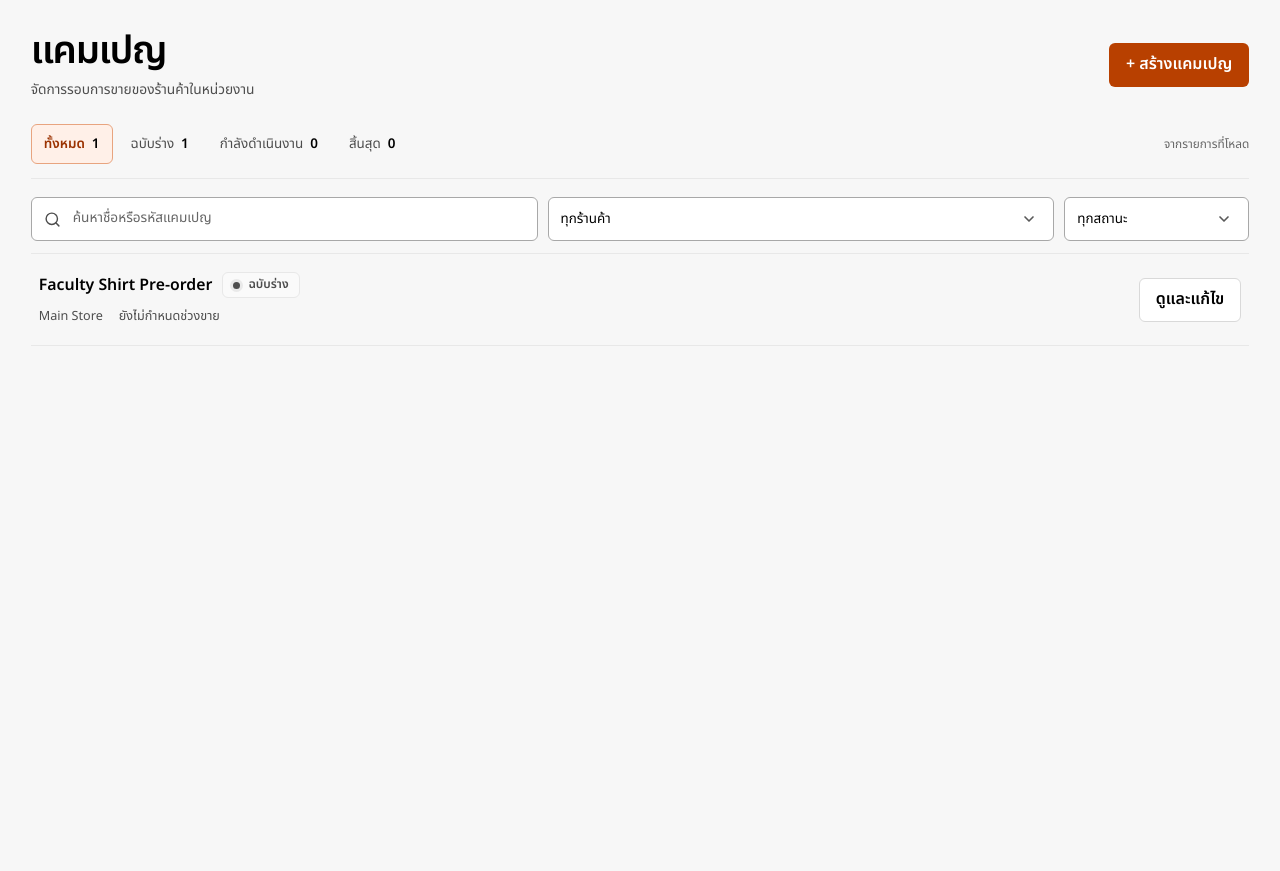
Test: CampaignManagementView › loads fresh DRAFT detail before editing and serializes planning fields through the helper
Expected: the heading "Faculty Shirt Pre-order" is shown, [39, 272, 212, 298]
Click the button "ดูและแก้ไข": {"x": 1190, "y": 300} [1139, 278, 1241, 322]
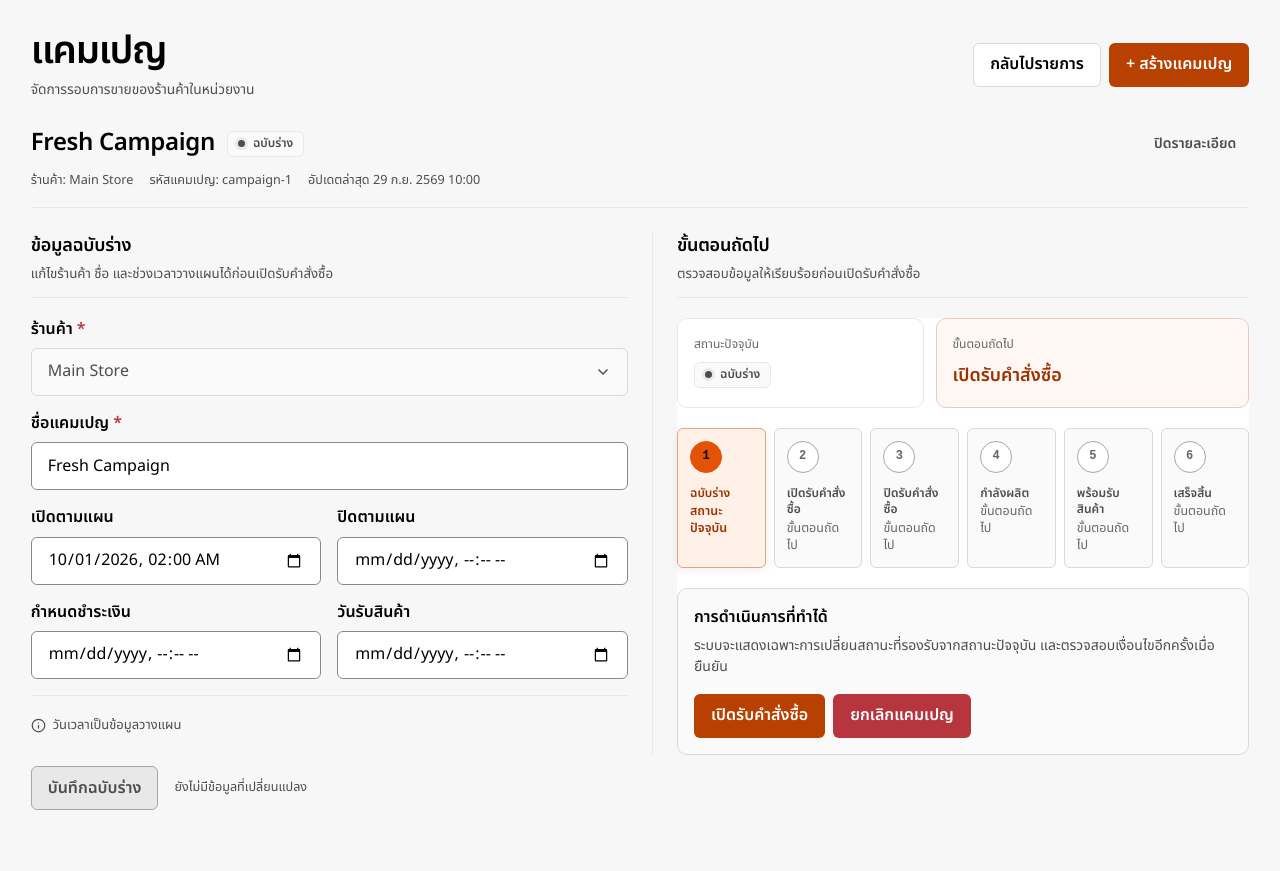
Replace the text in the field showing "Fresh Campaign" with "Updated Campaign": {"x": 329, "y": 466} [31, 442, 628, 490]
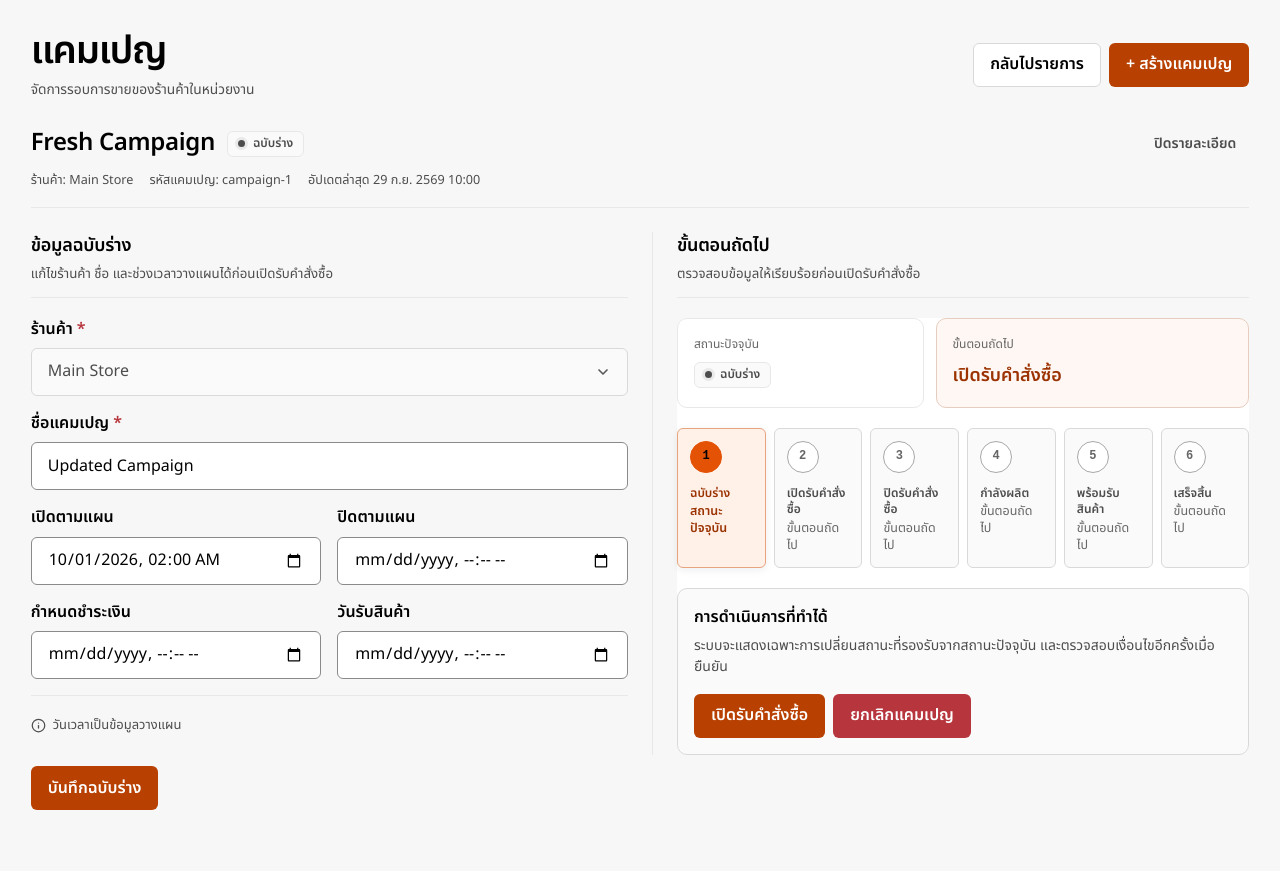
Click the button "บันทึกฉบับร่าง": {"x": 95, "y": 788} [31, 766, 158, 810]
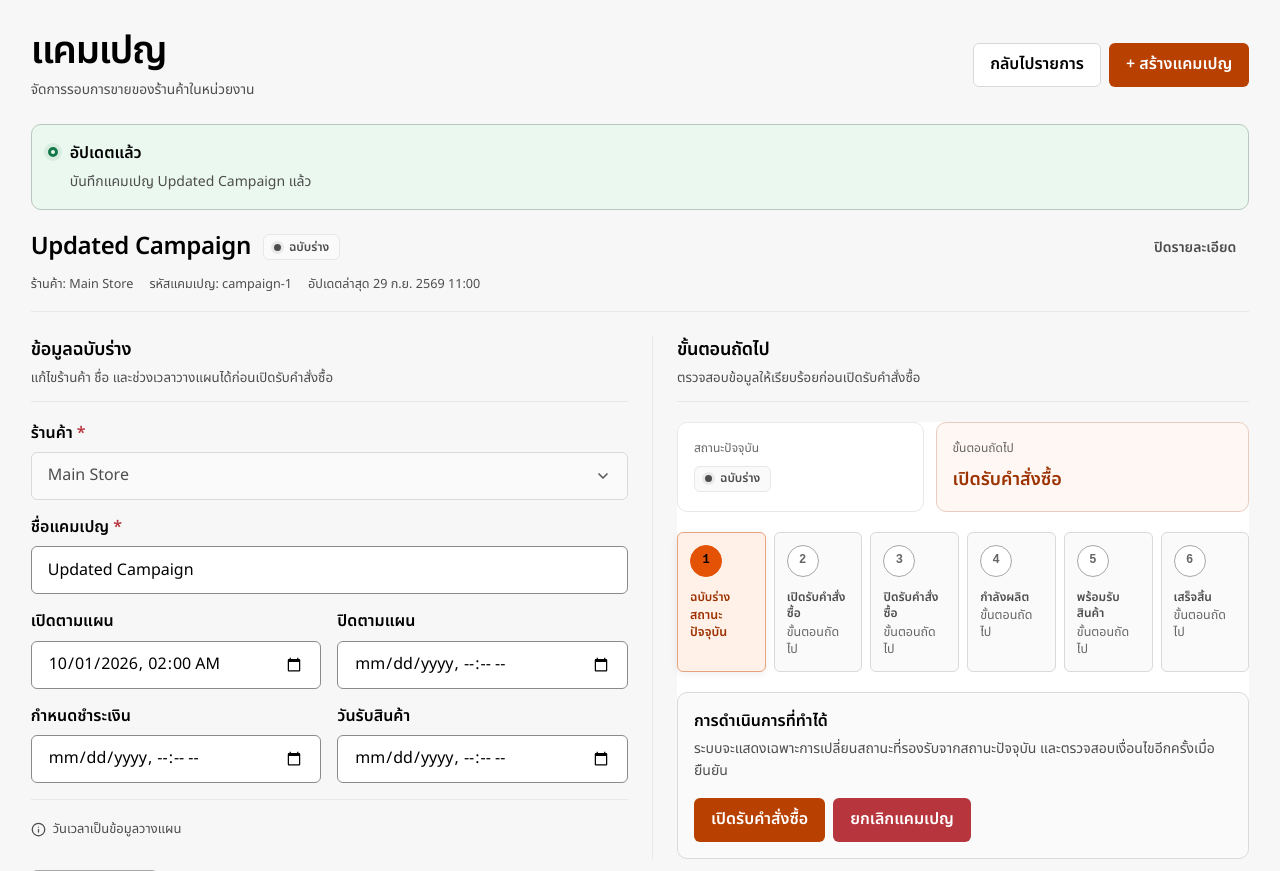
Now the text "บันทึกแคมเปญ Updated Campaign แล้ว" is shown, box [70, 171, 312, 192]
